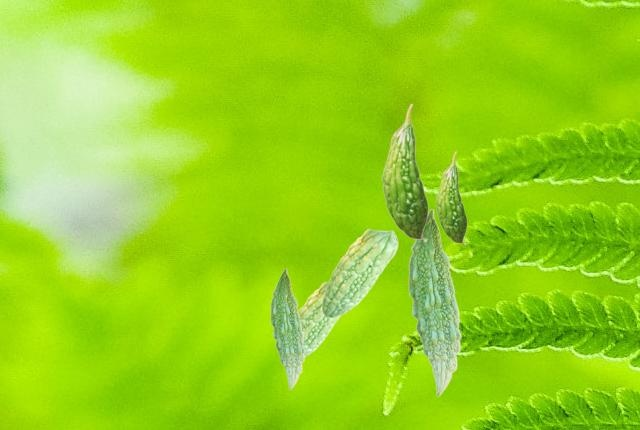ampalaya: (408, 208, 462, 397), (321, 228, 398, 318), (381, 103, 428, 242), (270, 267, 305, 390), (299, 281, 340, 357), (435, 151, 467, 245)
